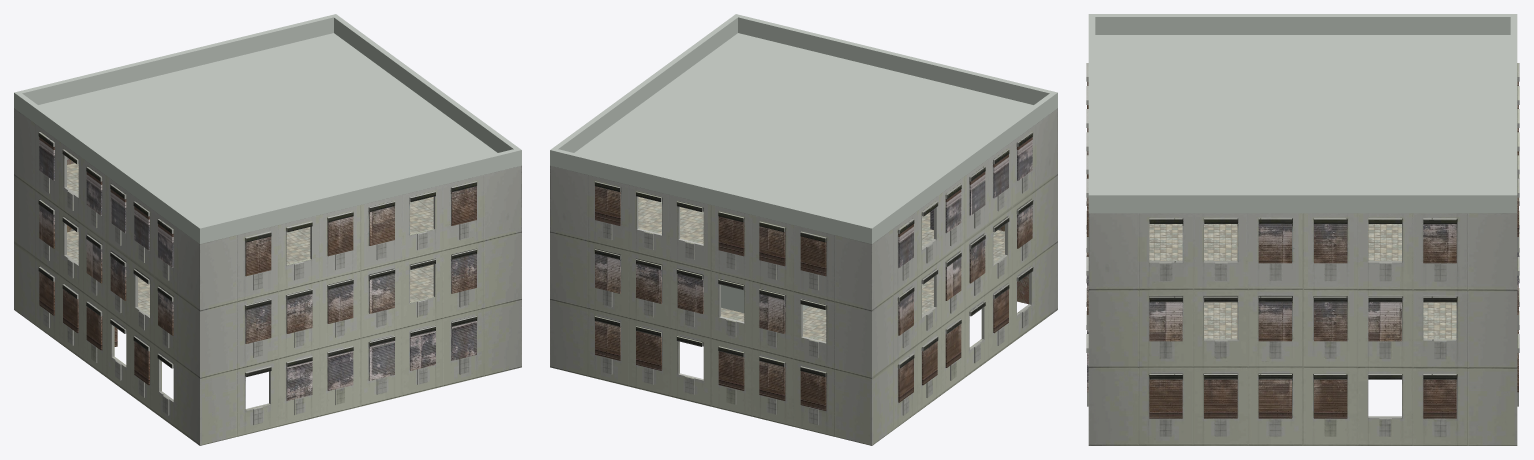
The model's file is BagSS03top_high.fbx.
3 views of the same model, side by side, from view 1: azimuth 30°, elevation 25°; view 2: azimuth 150°, elevation 25°; view 3: azimuth 270°, elevation 25° (orthographic). The views are drawn at different scales.
Visible parts, largest first — view 1: topMain700, topRoof700, topwindows700, topFloors700; view 2: topMain700, topRoof700, topwindows700, topFloors700, topstairwell700; view 3: topRoof700, topMain700, topwindows700, topFloors700.
Part boxes in pixels (box(x1,y1,x2,y2)): topMain700: box(14, 108, 521, 445); topRoof700: box(14, 14, 521, 243); topwindows700: box(39, 137, 476, 400); topFloors700: box(67, 163, 433, 314); topMain700: box(550, 108, 1057, 445); topRoof700: box(550, 14, 1057, 243); topwindows700: box(595, 137, 1032, 410); topFloors700: box(638, 197, 1004, 341); topstairwell700: box(721, 284, 808, 313); topRoof700: box(1088, 14, 1517, 213); topMain700: box(1086, 63, 1519, 445); topwindows700: box(1087, 81, 1518, 418); topFloors700: box(1149, 224, 1456, 339).
Size of the model in its own units: 20.7 by 13.23 by 20.7.
